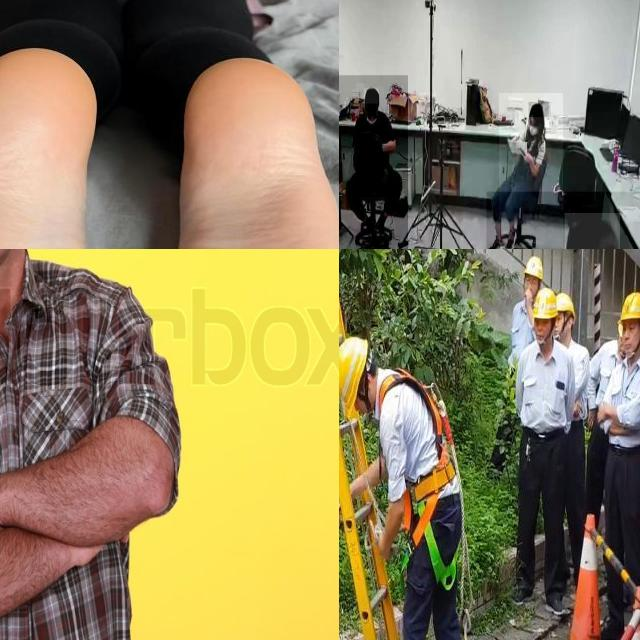Barefoots: (139, 59, 339, 249), (0, 39, 135, 249)
Harness: (378, 371, 462, 594)
face_mask: (528, 106, 542, 146)
hand_noglove: (522, 150, 534, 165), (511, 133, 519, 144)
head_nohelmet: (564, 213, 620, 249), (364, 88, 379, 104), (529, 102, 543, 118)
person: (0, 249, 186, 640), (339, 75, 408, 249), (499, 93, 563, 249)
shoes: (486, 233, 505, 249), (505, 225, 516, 249)
